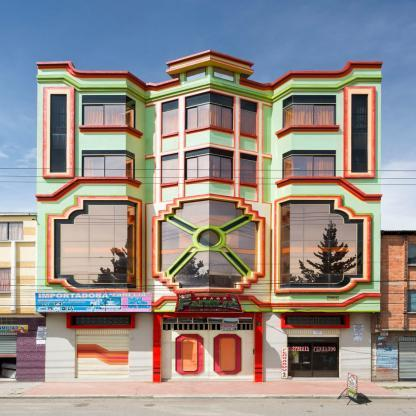Building Outline: (34, 49, 383, 382)
Door: (162, 324, 254, 381), (75, 329, 129, 378)
Facade: (35, 50, 383, 383)
Shop: (287, 329, 340, 377), (36, 293, 151, 313), (174, 291, 244, 313), (281, 347, 288, 378)
Sill: (275, 176, 383, 200), (34, 177, 142, 200), (79, 125, 144, 138), (275, 125, 339, 137), (185, 125, 233, 133), (185, 176, 233, 183), (240, 131, 257, 137), (161, 181, 178, 187), (240, 181, 257, 187), (162, 131, 178, 137)
Window: (280, 201, 364, 288), (54, 200, 136, 288), (174, 251, 244, 288), (174, 199, 244, 226), (185, 92, 233, 130), (283, 95, 336, 129), (159, 221, 194, 271), (82, 95, 135, 128), (224, 221, 258, 271), (185, 147, 233, 180), (282, 150, 336, 179), (82, 150, 135, 179), (50, 94, 67, 172), (352, 94, 368, 172), (219, 247, 248, 275), (169, 247, 197, 275), (162, 99, 179, 134), (240, 99, 257, 134), (162, 318, 254, 324), (240, 153, 257, 184), (161, 153, 178, 183), (285, 316, 343, 324), (73, 316, 129, 324), (169, 217, 198, 232), (220, 217, 249, 231), (198, 229, 220, 246), (214, 66, 234, 82), (186, 66, 205, 82)
